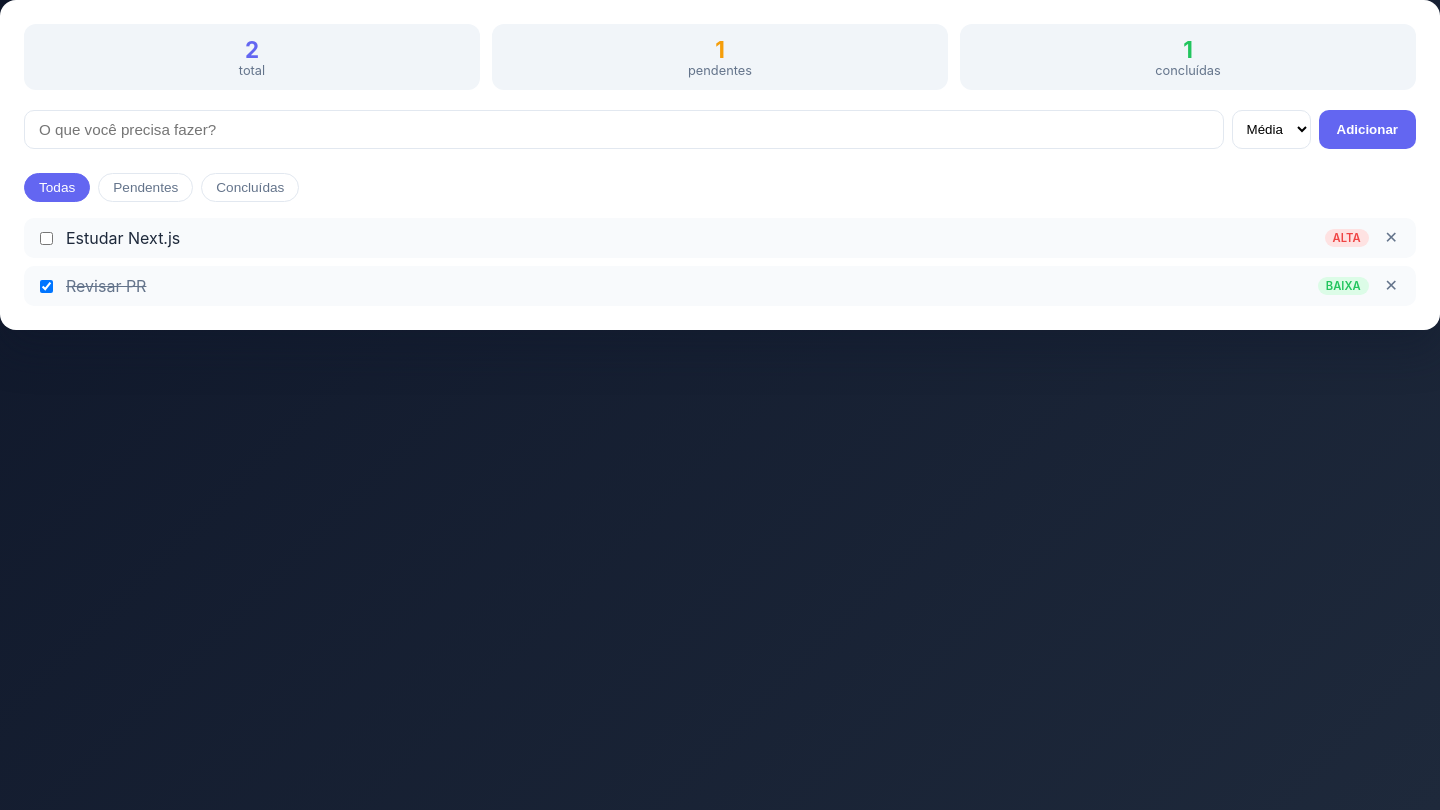
ListaTarefas › remove uma tarefa da lista
Click the button named "Remover \"Revisar PR\"". click: (1391, 286)
box: [1379,277,1404,295]
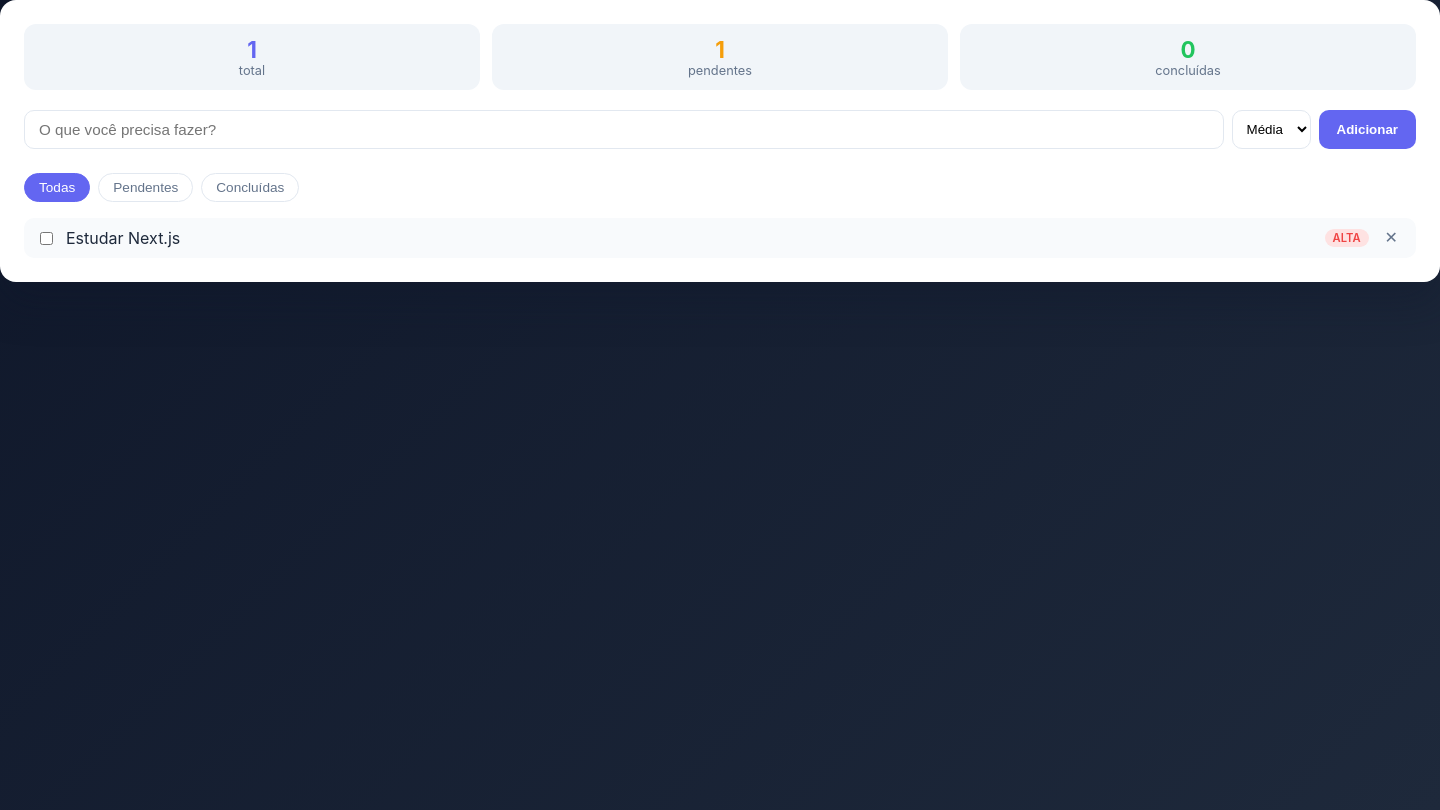
Check: the text "Revisar PR" is gone
Check: the element with test id "stat-total" shows "1", box [247,36,257,63]
